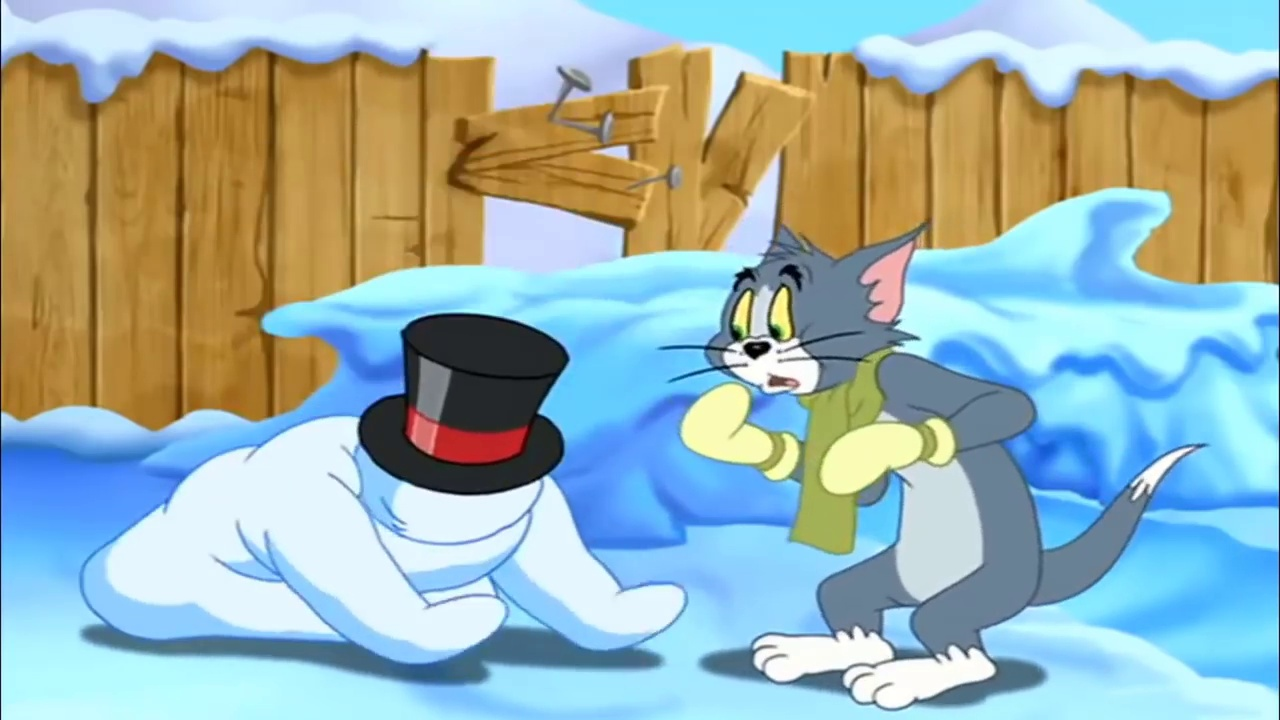face: (721, 262, 828, 402)
